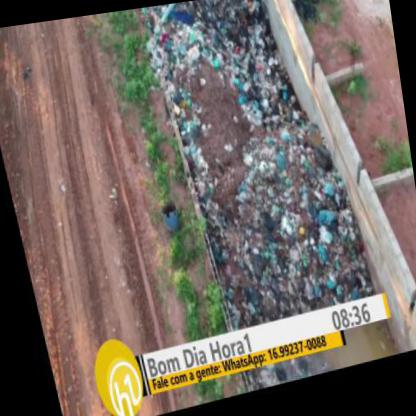lixo: (152, 0, 327, 336)
